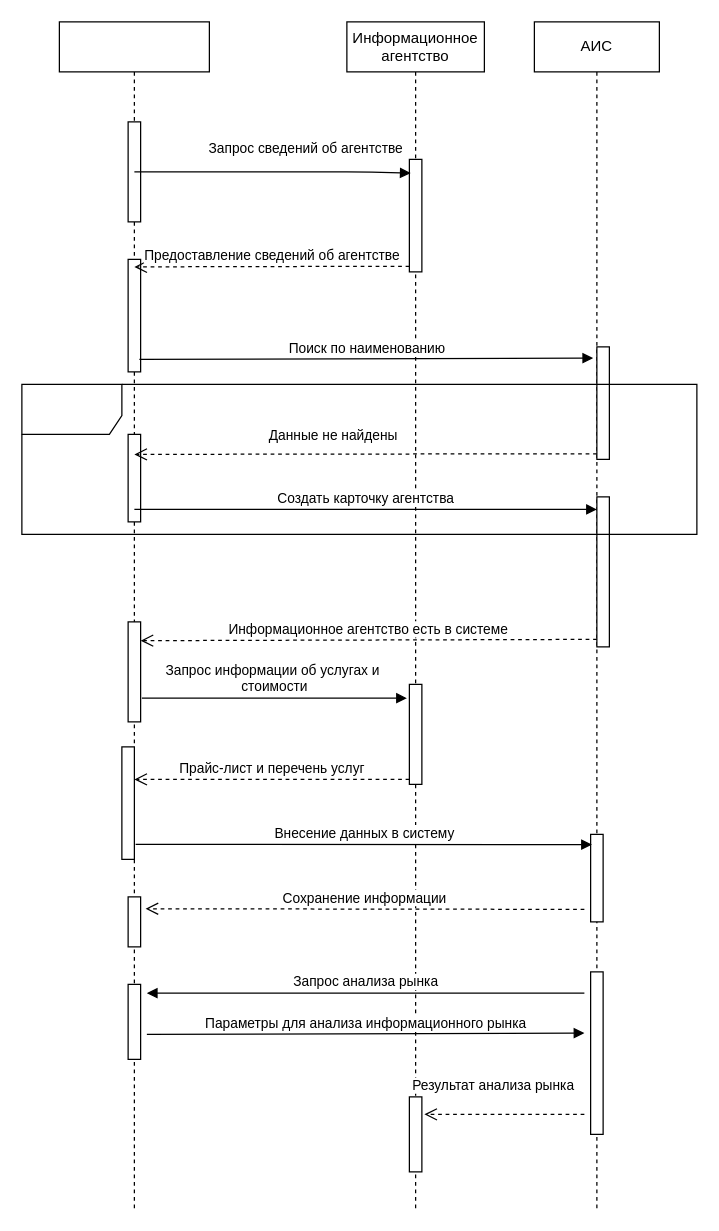
This 719x1231 diagram has some shape labels left out. The box of each missing label's shape, as (x1, y1, x2, y2) in pixels:
Информационное агентство не найдено: (21, 383, 697, 534)
Работник библиотеки: (58, 21, 209, 1209)
